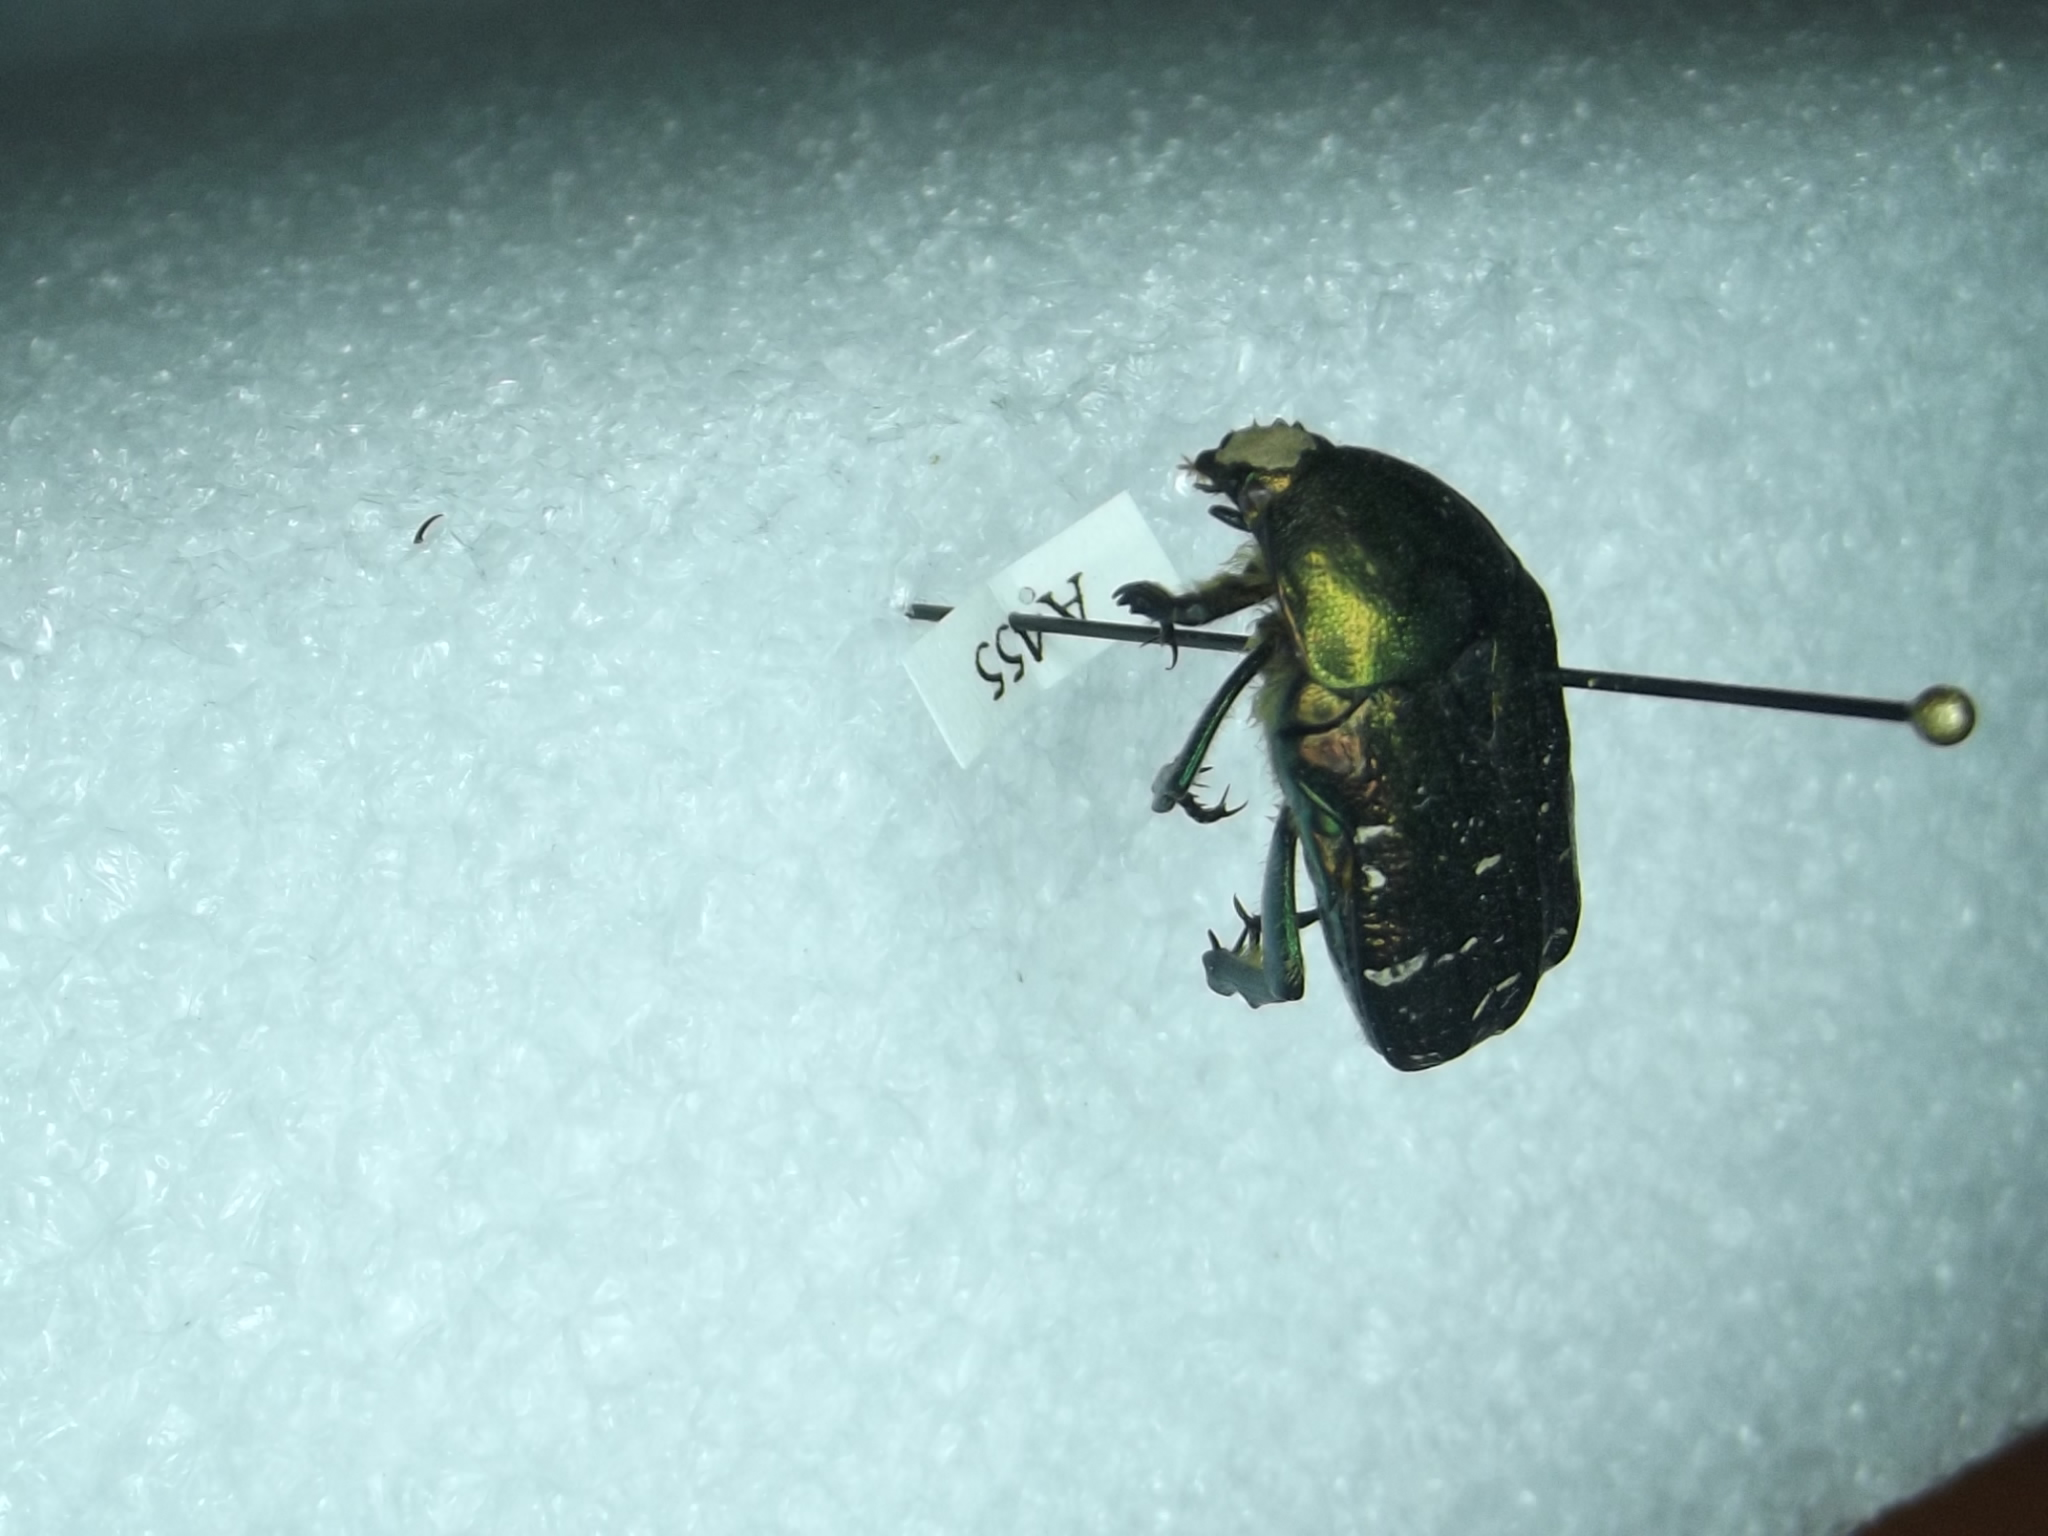Cetonia_kemali: (1097, 390, 1614, 1084)
